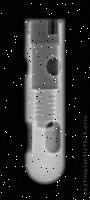Camlog: (23, 19, 67, 186)
